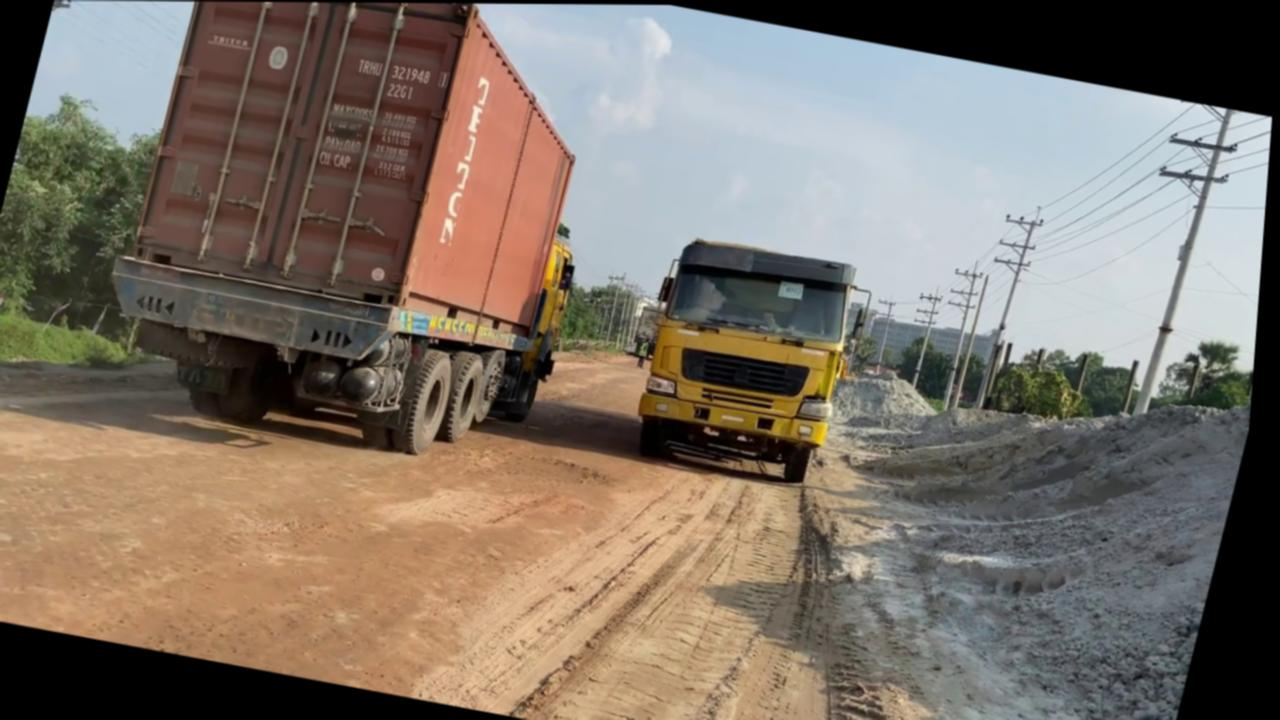Muddy road: (0, 238, 944, 720)
Pole: (1105, 97, 1247, 419), (1137, 104, 1233, 416)
Tree: (80, 1, 636, 475), (621, 227, 883, 488), (632, 298, 669, 358)
